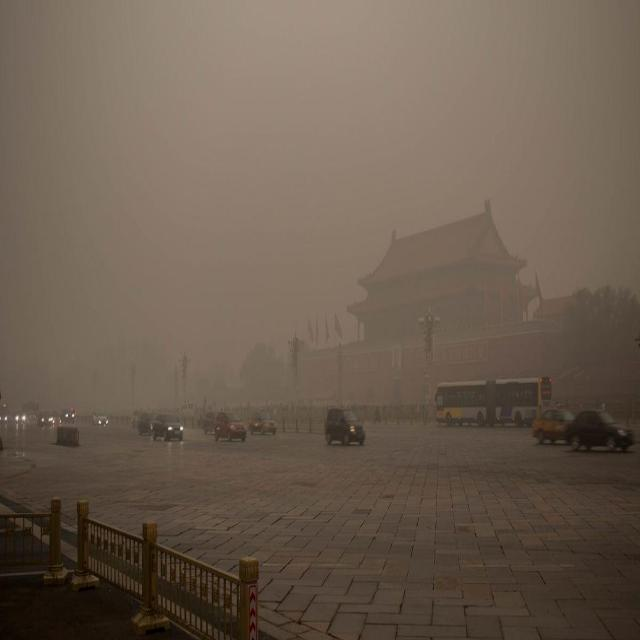Bus: (430, 376, 556, 430)
Car: (572, 408, 629, 459), (323, 406, 367, 454), (531, 414, 573, 448), (216, 416, 248, 445), (154, 413, 186, 440)
